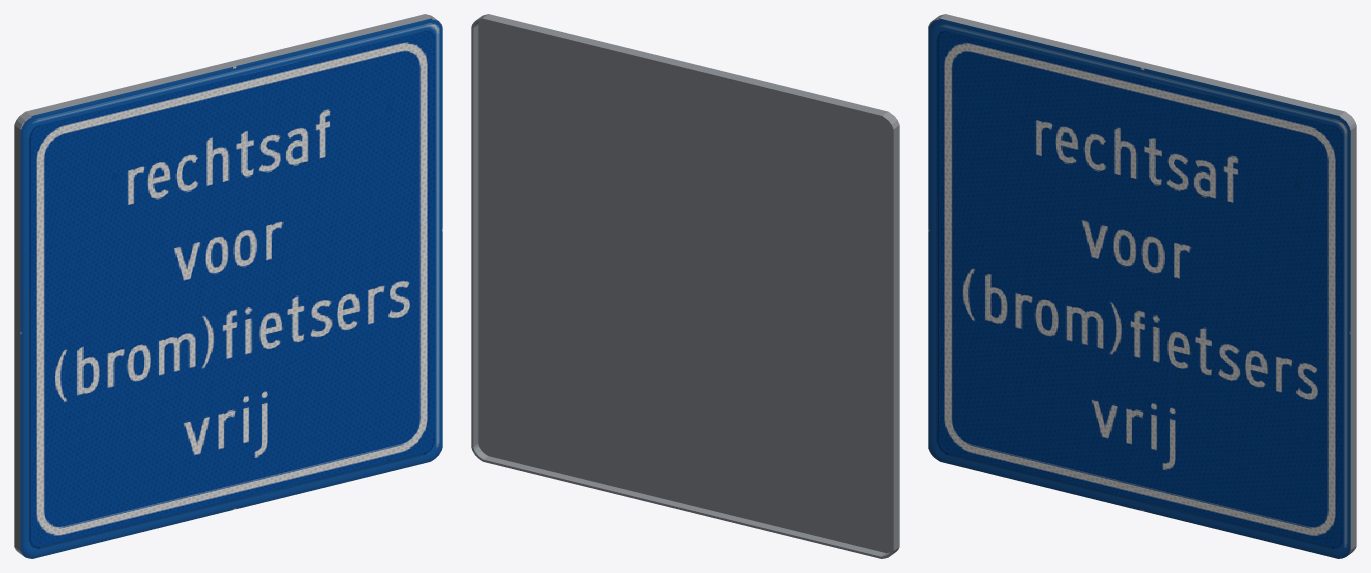
3 views of the same model, side by side, from view 1: azimuth 30°, elevation 25°; view 2: azimuth 150°, elevation 25°; view 3: azimuth 330°, elevation 25° (orthographic).
Parts seen in each view (by area): view 1: cat_135648d19529cf1b; view 2: cat_135648d19529cf1b; view 3: cat_135648d19529cf1b.
Boxes of the visible parts, bbox=[...] form: cat_135648d19529cf1b: bbox=[14, 14, 442, 558]; cat_135648d19529cf1b: bbox=[471, 14, 899, 558]; cat_135648d19529cf1b: bbox=[928, 14, 1356, 558].
Bounding box in the file's own units: 0.6 × 0.015 × 0.6014.
2 materials, 1 textured.
